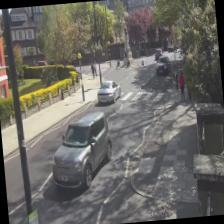person: (177, 71, 187, 101)
